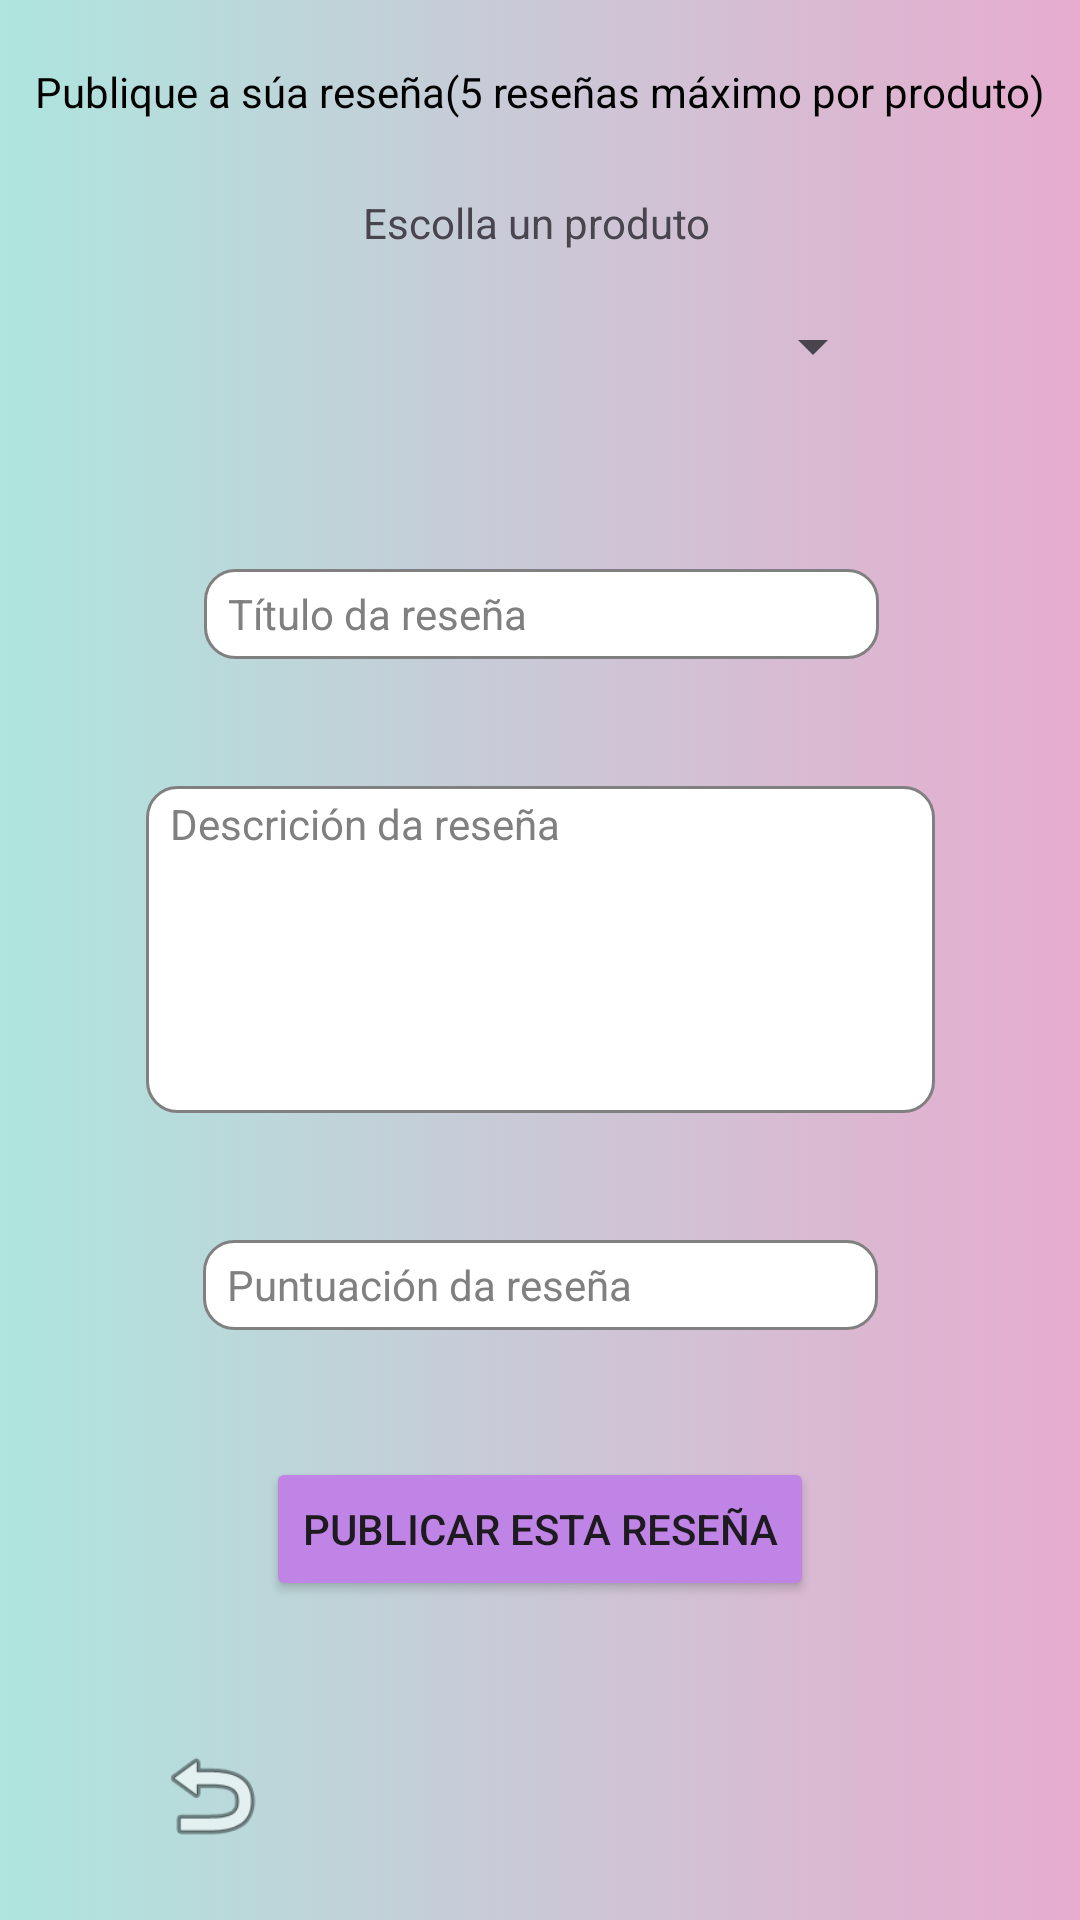

Locate icon controls on the screen. Image size 1080 x 1920, boxes as detection(x1, y1, x2, y2).
revert: detection(171, 1758, 255, 1835)
